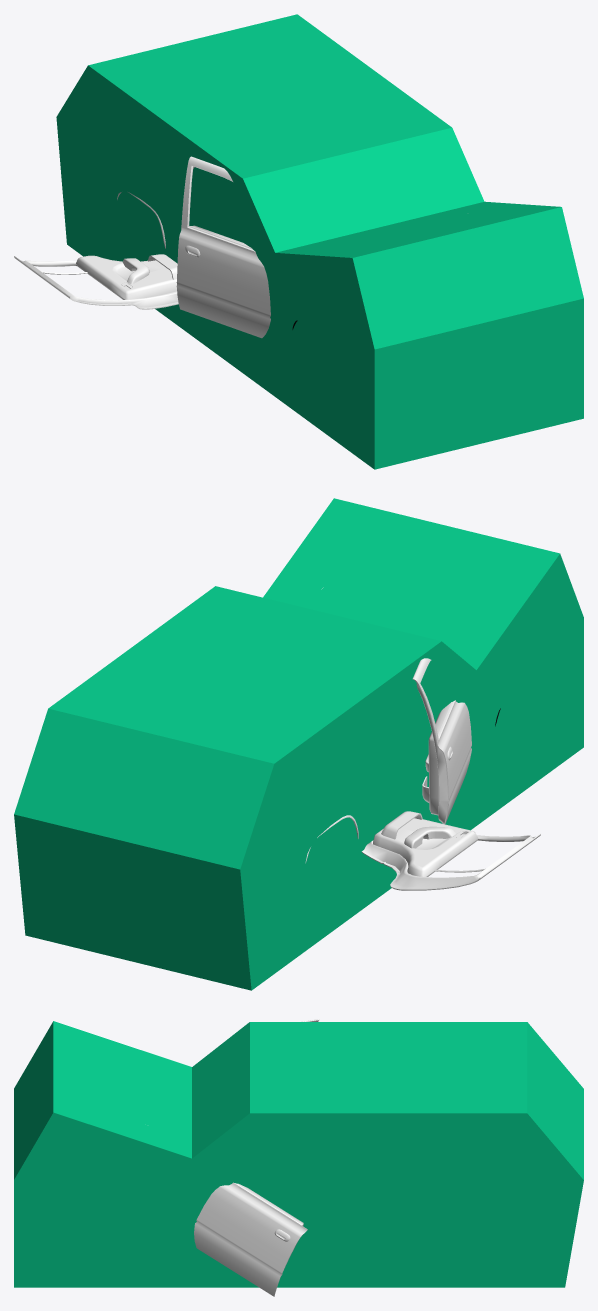
File: wrecked_roamer_1.dae
The picture shows the model from 3 angles, top to bottom: view 1: azimuth 30°, elevation 25°; view 2: azimuth 150°, elevation 25°; view 3: azimuth 270°, elevation 25°; orthographic projection. The views are drawn at different scales.
Parts seen in each view (by area): view 1: Colmesh-1, roamer_body; view 2: Colmesh-1, roamer_body; view 3: Colmesh-1, roamer_body.
Part boxes in pixels (x1=…): Colmesh-1: x1=56, y1=14, x2=583, y2=469; roamer_body: x1=14, y1=156, x2=297, y2=338; Colmesh-1: x1=14, y1=498, x2=583, y2=990; roamer_body: x1=305, y1=587, x2=540, y2=890; Colmesh-1: x1=14, y1=1021, x2=583, y2=1287; roamer_body: x1=194, y1=1019, x2=319, y2=1296.
Bounding box in the file's own units: 3.79 × 5.35 × 1.81.
